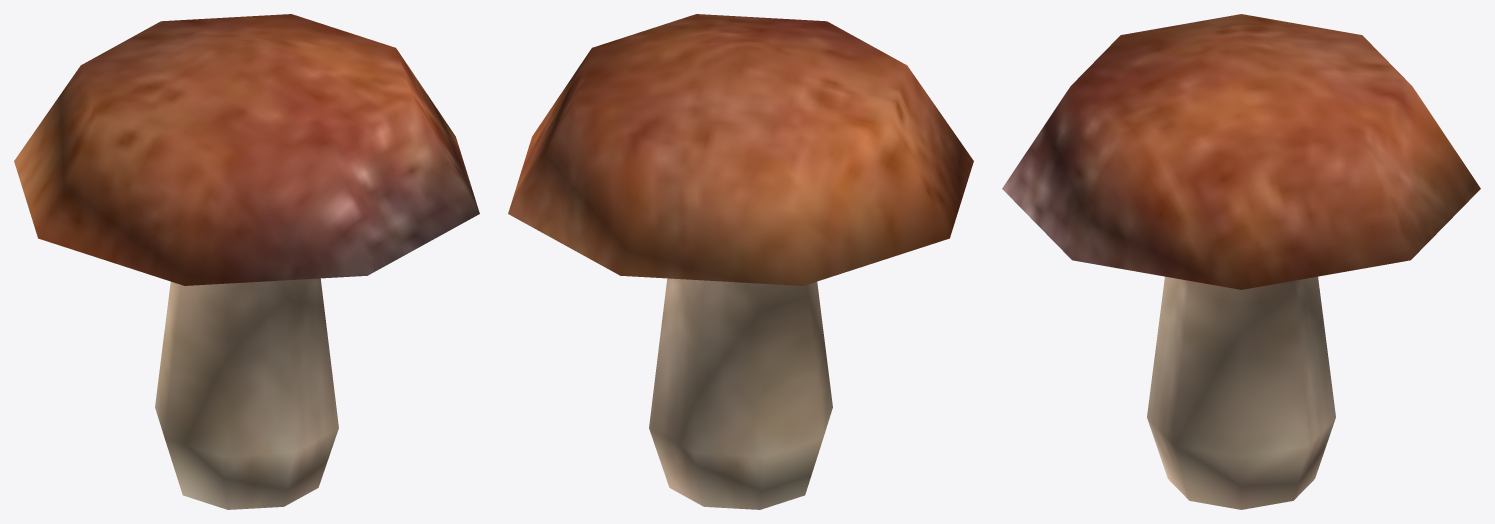
Rendered from mushroom2.fbx.
The picture shows the model from 3 angles, left to right: view 1: azimuth 30°, elevation 25°; view 2: azimuth 150°, elevation 25°; view 3: azimuth 270°, elevation 25°; orthographic projection.
Parts seen in each view (by area): view 1: mushroom; view 2: mushroom; view 3: mushroom.
Part boxes in pixels (left/top/right/bottom): mushroom: left=14, top=14, right=479, bottom=509; mushroom: left=508, top=14, right=973, bottom=509; mushroom: left=1002, top=14, right=1480, bottom=509.
Bounding box in the file's own units: 0.4679 × 0.4613 × 0.4679.
